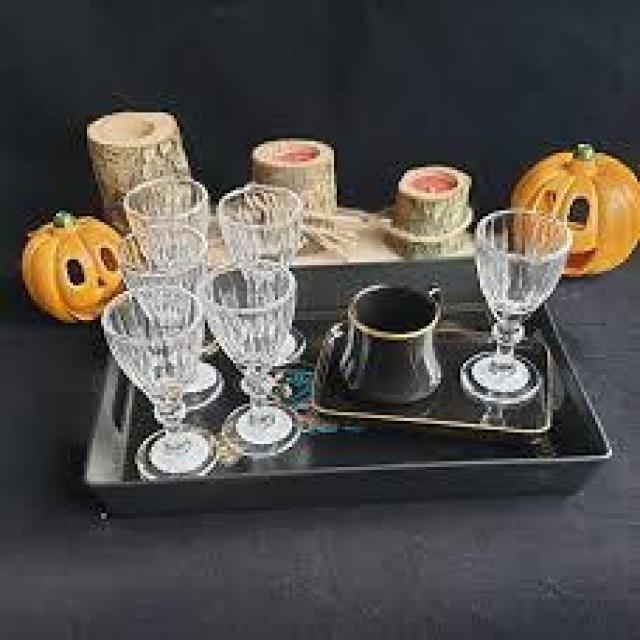glass: (98, 284, 224, 483), (331, 276, 452, 410)
